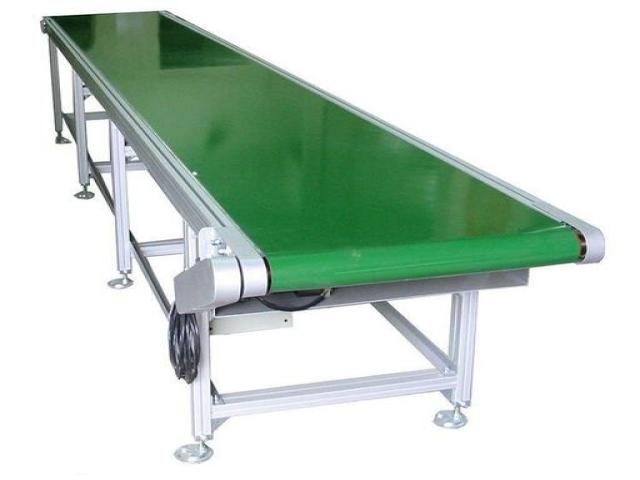conveyor: (28, 8, 609, 338)
